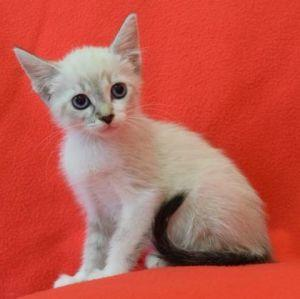siamese: (14, 8, 147, 146)
